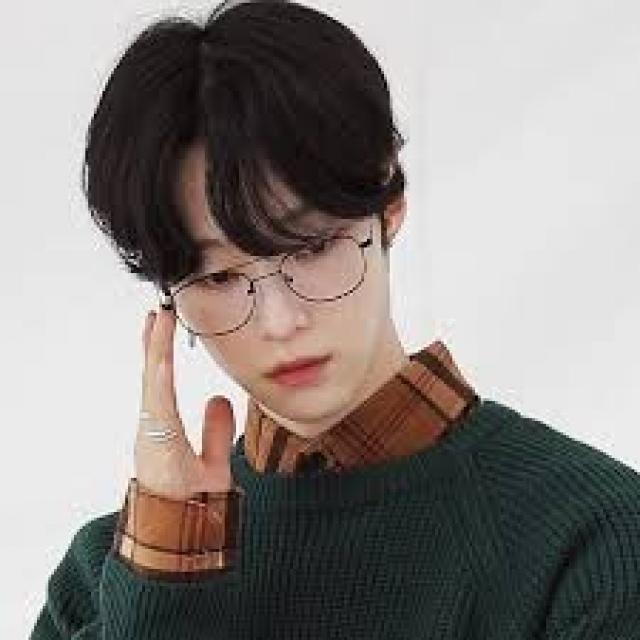Glasses: (145, 182, 390, 347)
